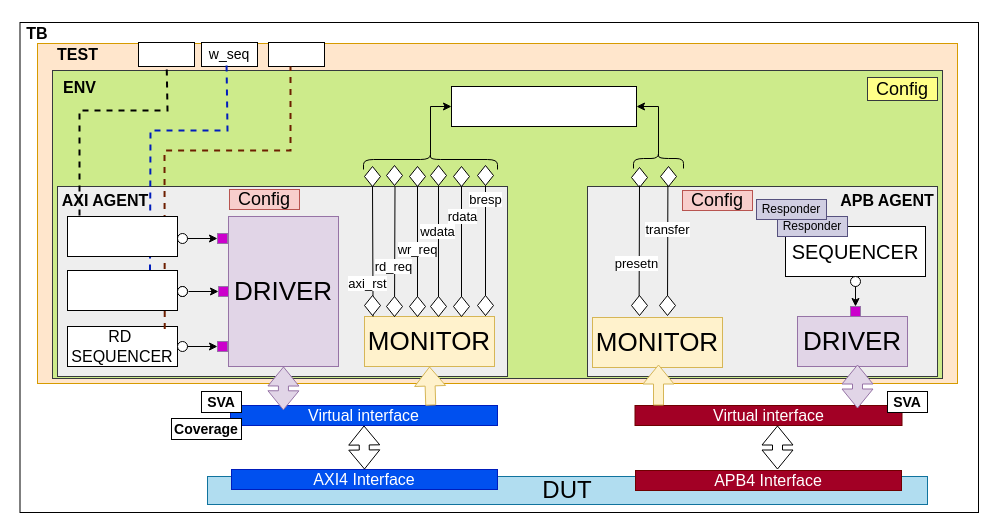
Some shapes in this 996 by 530 pixel diagram are drawn without their labels. The shapes that lost their labels are listed below. From the top down, each one's centre as x and y in pixels, then its label:
point (166, 54): rst_seq
point (296, 54): r_seq
point (543, 106): SCOREBOARD
point (122, 236): RESET SEQUENCER
point (122, 290): WR SEQUENCER
